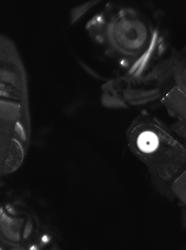fiber: (133, 127, 162, 156)
